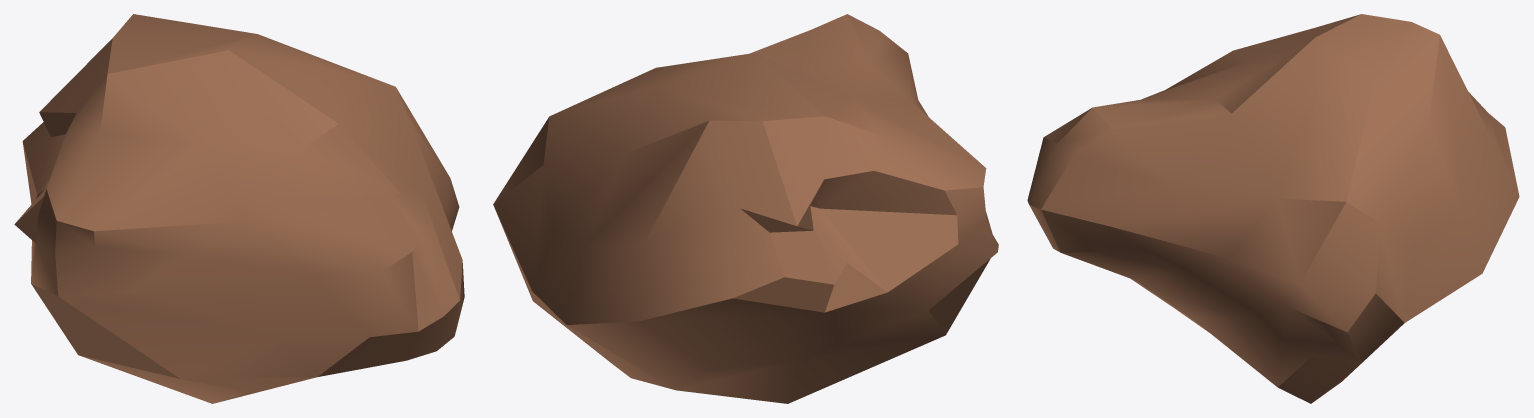
File: rock_medium_6.fbx
The picture shows the model from 3 angles, left to right: view 1: azimuth 30°, elevation 25°; view 2: azimuth 150°, elevation 25°; view 3: azimuth 270°, elevation 25°; orthographic projection. The views are drawn at different scales.
Visible parts, largest first — view 1: Retopo_Rock generator addon.018; view 2: Retopo_Rock generator addon.018; view 3: Retopo_Rock generator addon.018.
Part boxes in pixels (left/top/right/bottom): Retopo_Rock generator addon.018: left=14, top=14, right=464, bottom=403; Retopo_Rock generator addon.018: left=493, top=14, right=998, bottom=403; Retopo_Rock generator addon.018: left=1027, top=14, right=1519, bottom=403.
Size of the model in its own units: 58.73 by 44.45 by 65.21.
